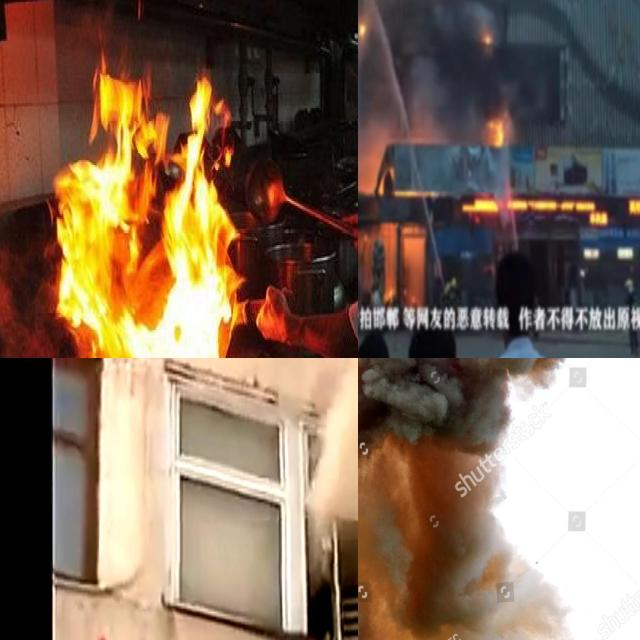fire: (53, 55, 240, 358), (486, 114, 507, 146)
smoke: (358, 358, 586, 640), (382, 0, 495, 128)
